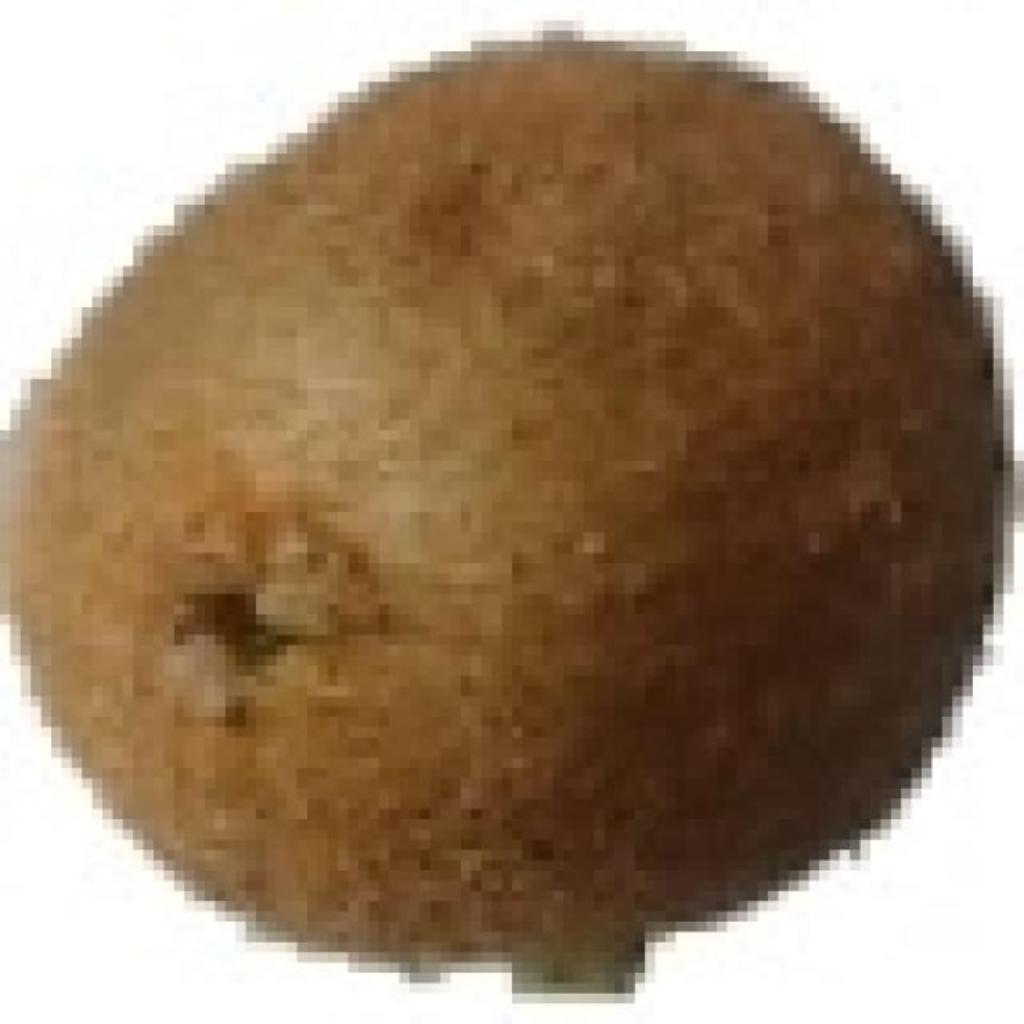kiwi: (10, 31, 983, 973), (829, 932, 963, 1004)
